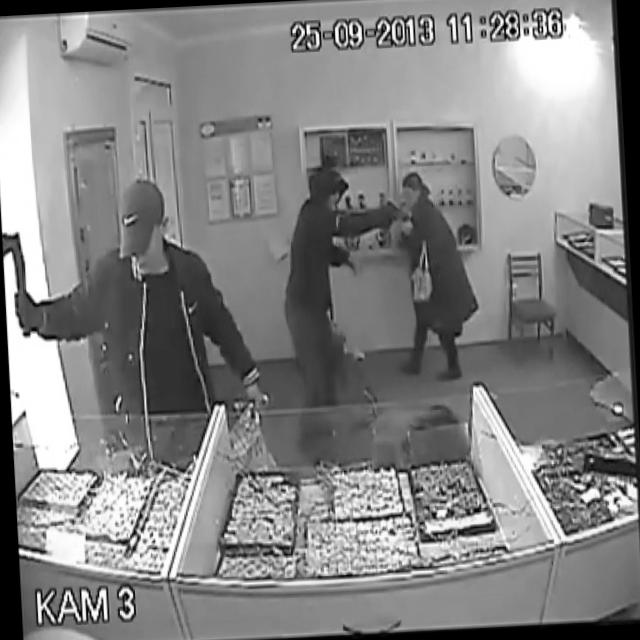gun: (364, 183, 425, 256)
person: (74, 179, 198, 382), (384, 160, 476, 330)
person with a gun: (284, 150, 404, 437)
